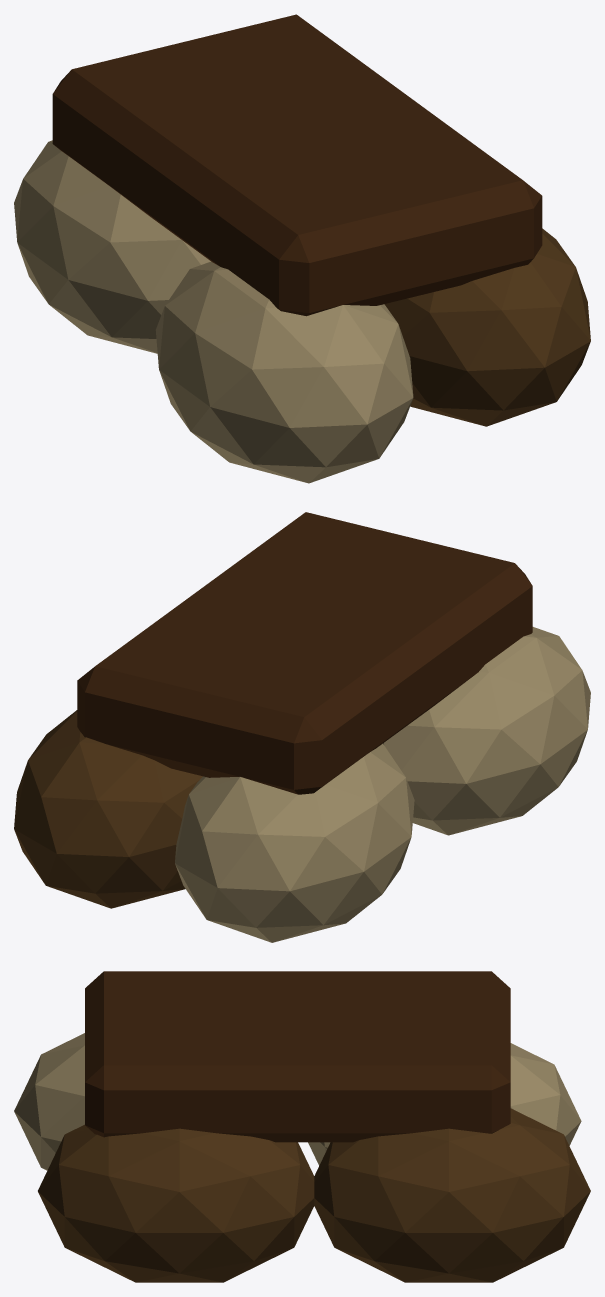
File: cart_load.fbx
3 views of the same model, one above another, from view 1: azimuth 30°, elevation 25°; view 2: azimuth 150°, elevation 25°; view 3: azimuth 270°, elevation 25° (orthographic). The views are drawn at different scales.
Visible parts, largest first — view 1: cart_load; view 2: cart_load; view 3: cart_load.
Part boxes in pixels (left/top/right/bottom): cart_load: left=14, top=14, right=590, bottom=483; cart_load: left=14, top=512, right=590, bottom=942; cart_load: left=14, top=971, right=590, bottom=1282.
Size of the model in its own units: 0.8185 by 0.51 by 1.22.
